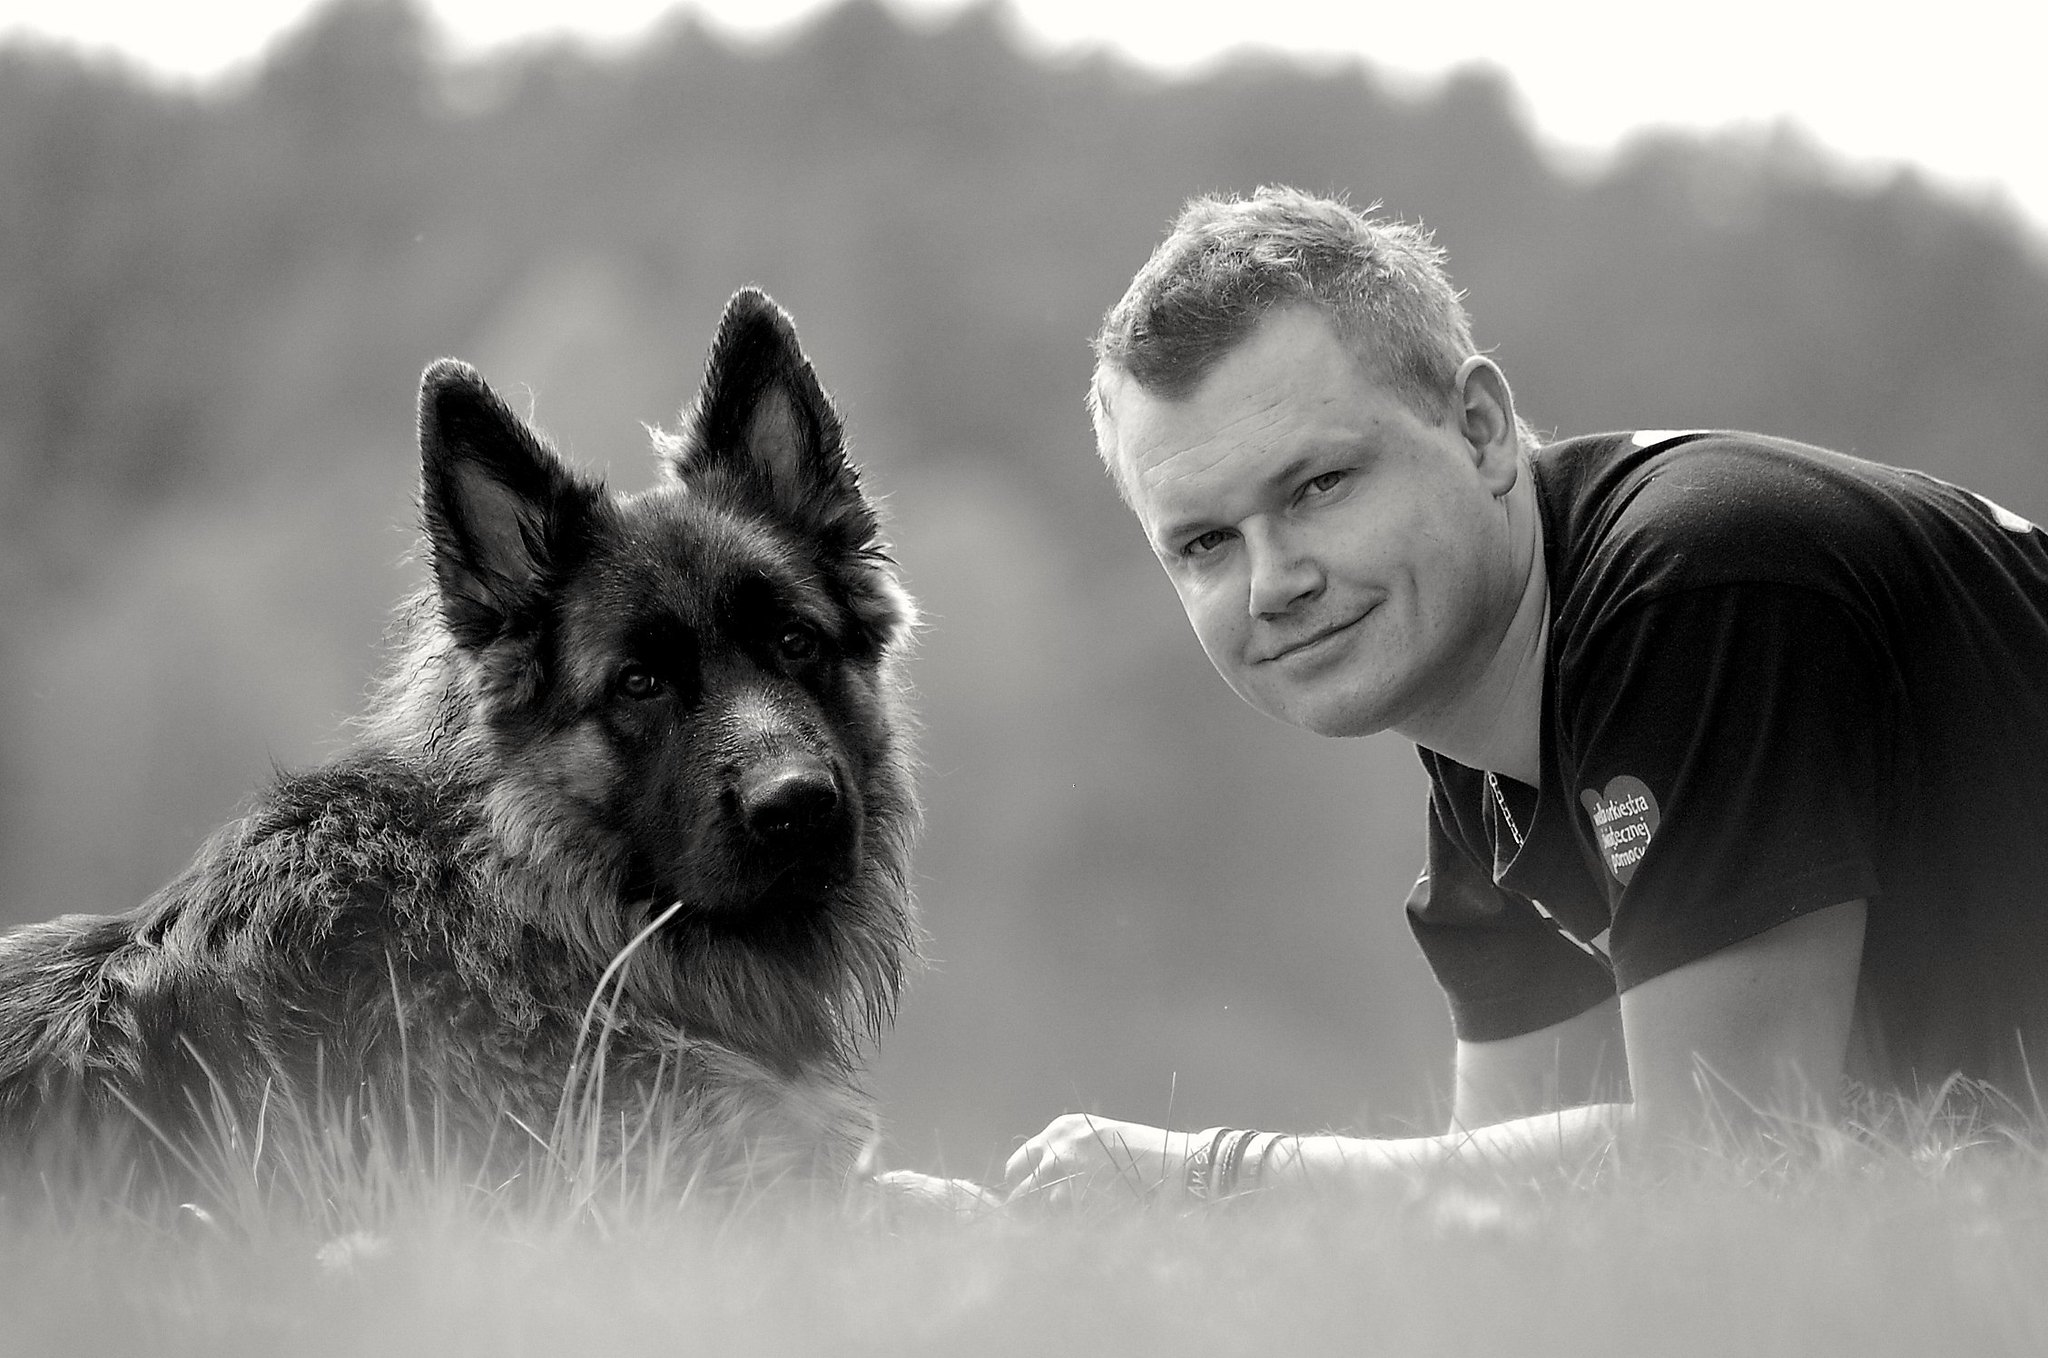Person: (960, 168, 2048, 1233)
